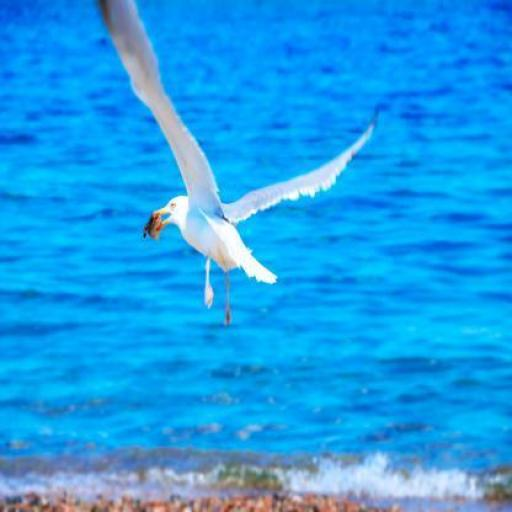bird: (93, 0, 378, 325)
